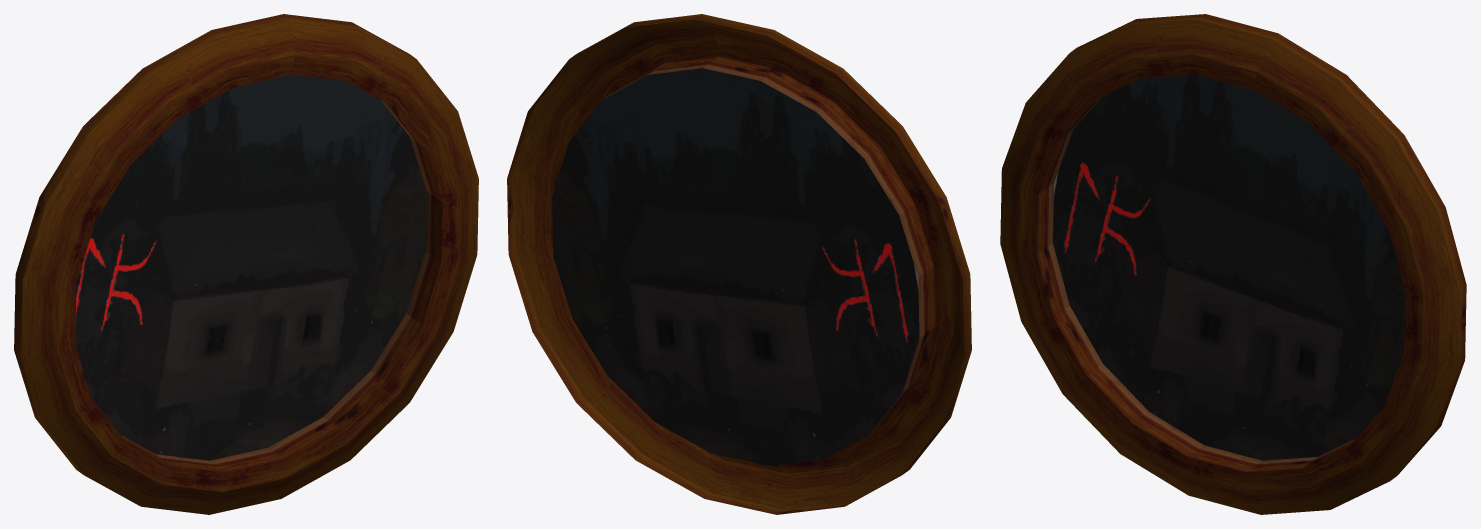
File: En_P_frame7_symbol.fbx
The picture shows the model from 3 angles, left to right: view 1: azimuth 30°, elevation 25°; view 2: azimuth 150°, elevation 25°; view 3: azimuth 330°, elevation 25°; orthographic projection.
Visible parts, largest first — view 1: frame7_symbol; view 2: frame7_symbol; view 3: frame7_symbol.
Part boxes in pixels (x1,y1,x2,y2): frame7_symbol: (14, 14, 478, 514); frame7_symbol: (507, 14, 971, 514); frame7_symbol: (1000, 14, 1466, 514).
Size of the model in its own units: 25.4 by 25.4 by 1.54.
